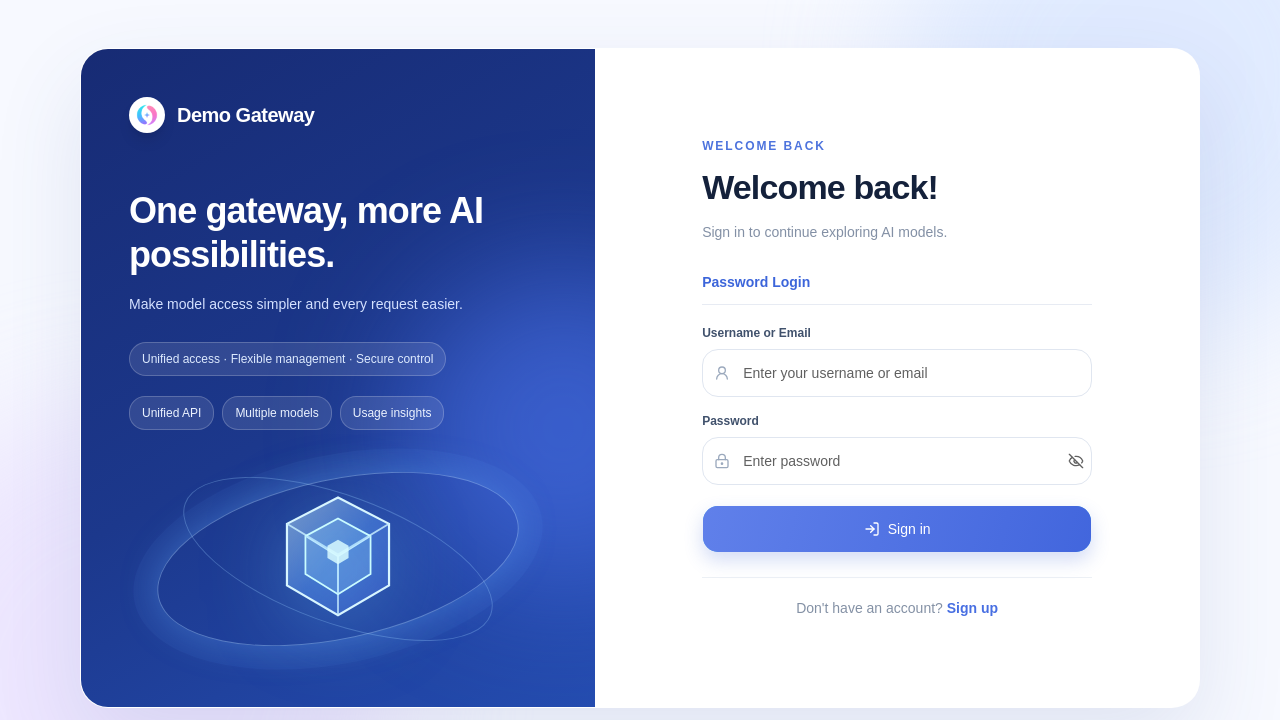
Test: does not send a login request when password fields are empty
Click the button "Sign in" at [897, 529], box [702, 505, 1092, 553]
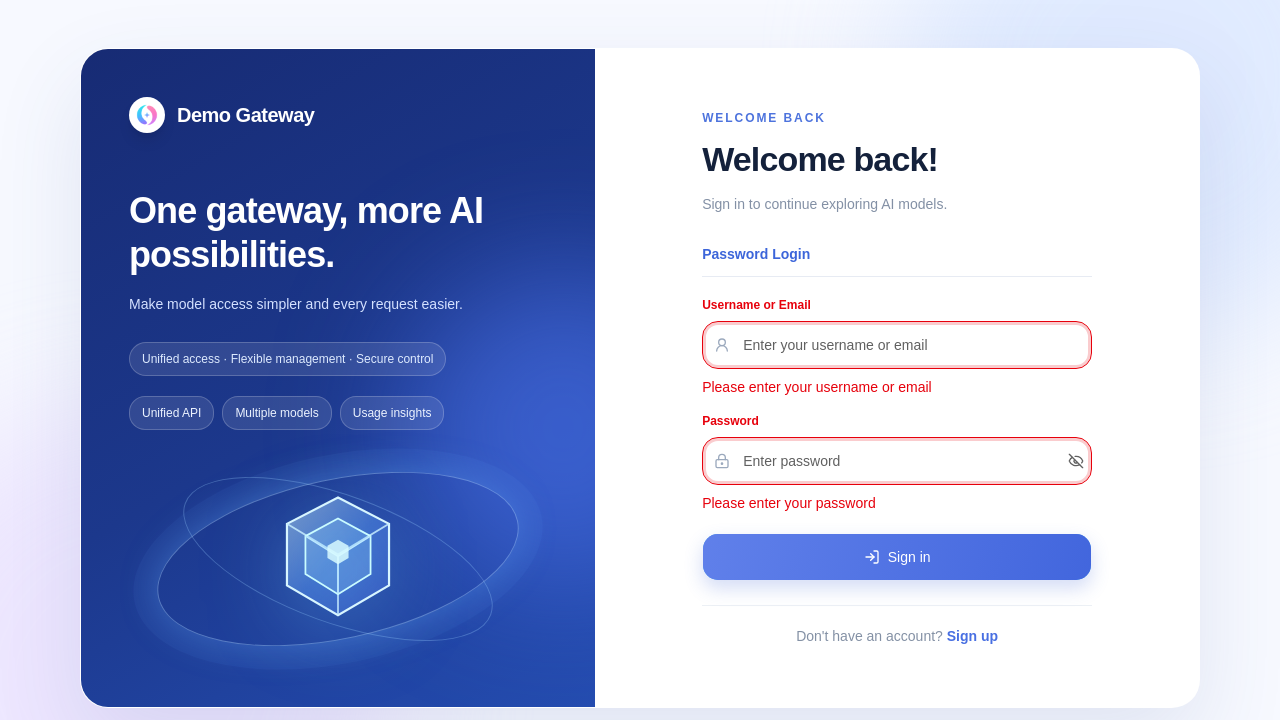
Expected: the text "Please enter your username or email" is shown, [702, 379, 932, 395]
